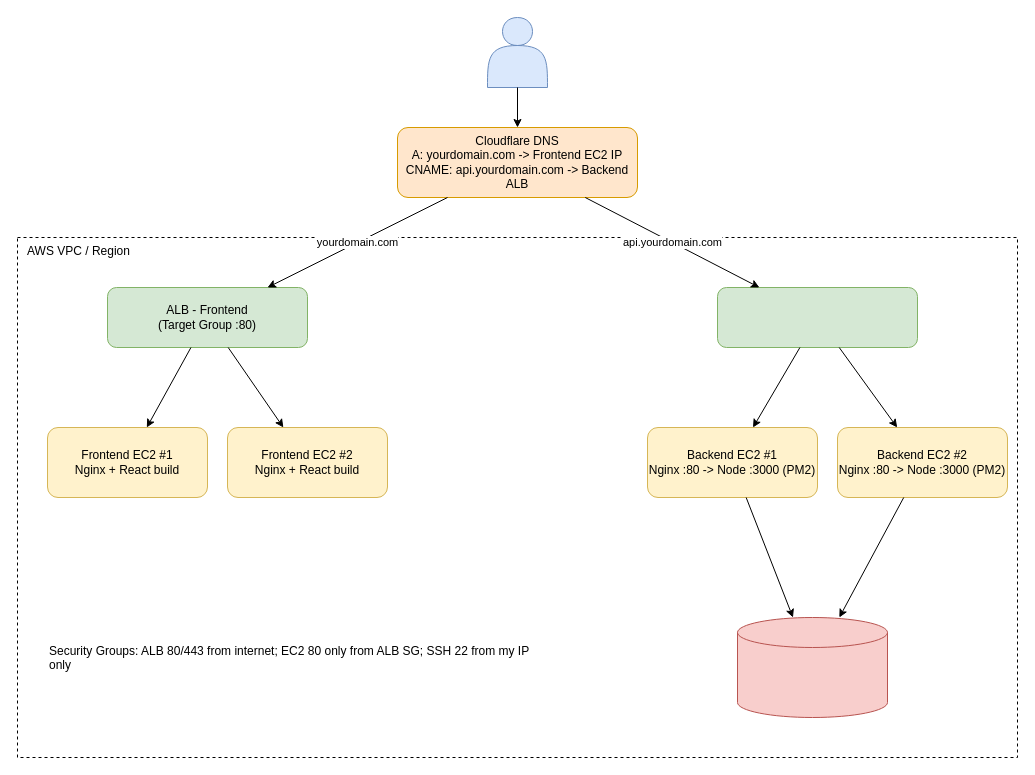
Some shapes in this 1035 by 775 pixel diagram are drawn without their labels. Each missing label, with the centre of its shape:
ALB - Backend (Target Group :80, /health): [817,317]
MongoDB Atlas (TLS, IP allow-list): [812,667]
Users (Browser): [517,52]
